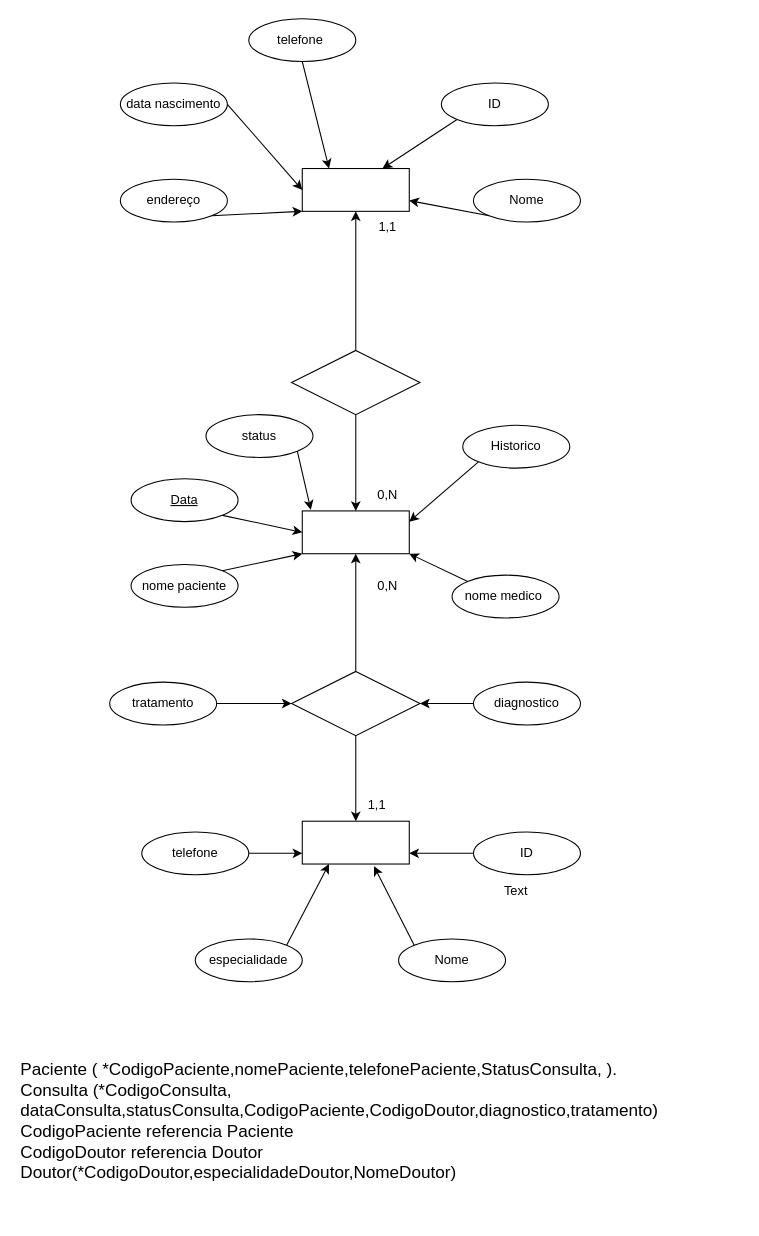
Some shapes in this 759 by 1236 pixel diagram are drawn without their labels. The shapes that lost their labels are listed below. From the top down, each one's box as (x1, y1, x2, y2) in pixels, then its label:
(301, 167, 409, 211): paciente
(301, 510, 409, 554): consulta
(301, 820, 409, 864): doutor
